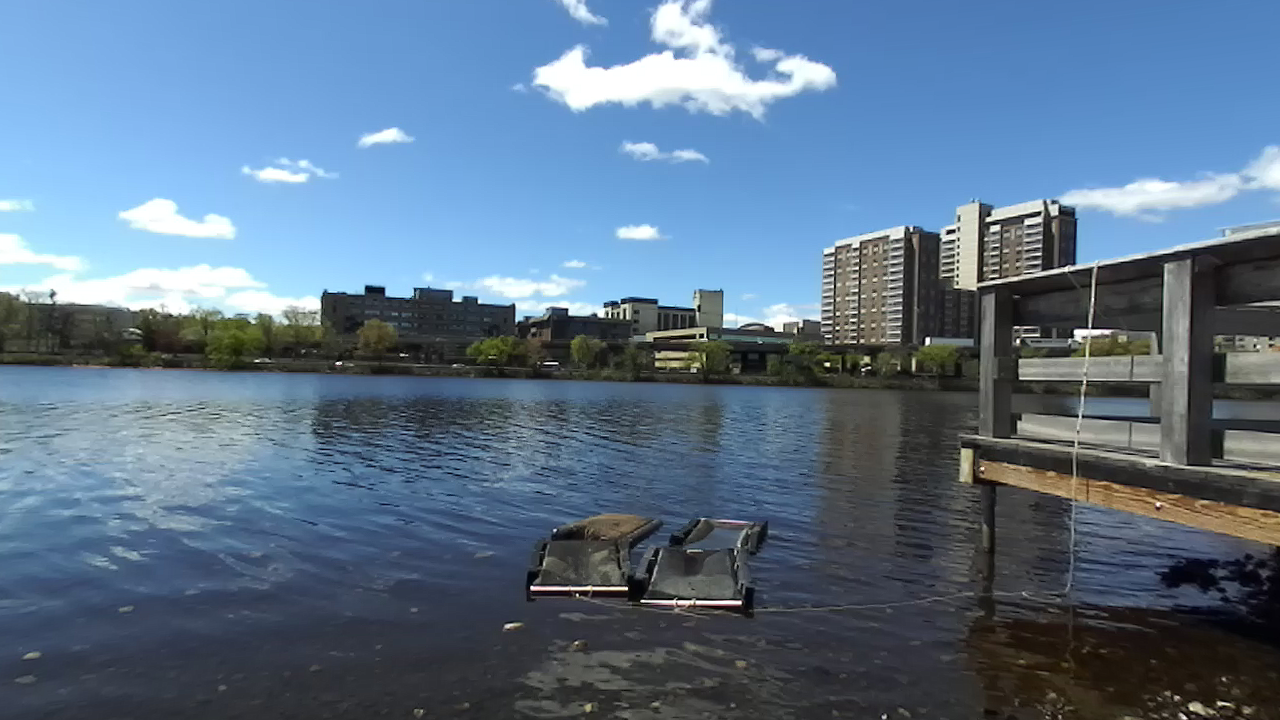bag: (636, 545, 755, 612), (526, 535, 637, 599), (670, 514, 766, 553), (551, 510, 662, 541)
